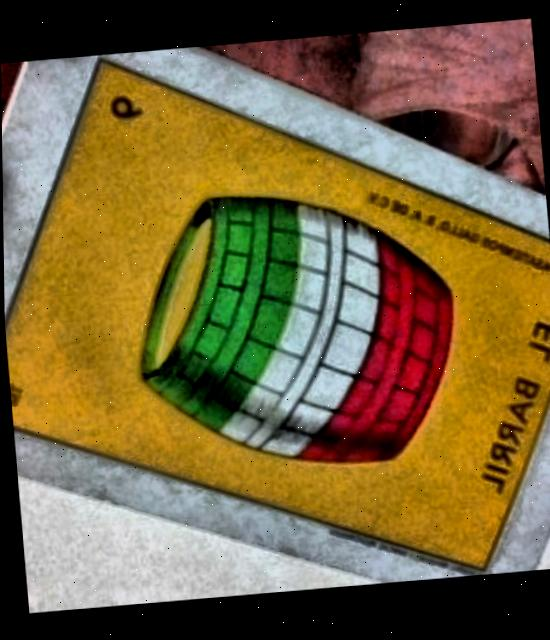El Barril: (4, 69, 550, 570)
